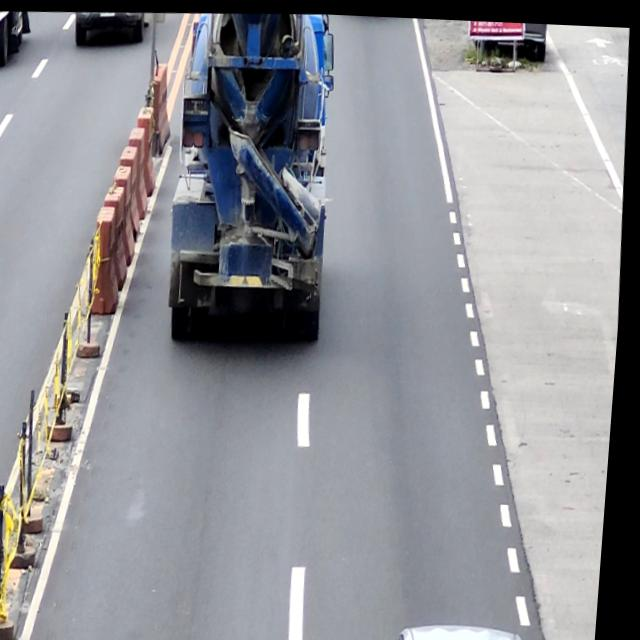Truck: (158, 6, 345, 348)
